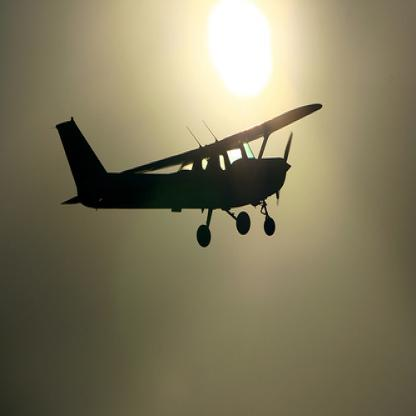aeroplane: (55, 102, 322, 248)
